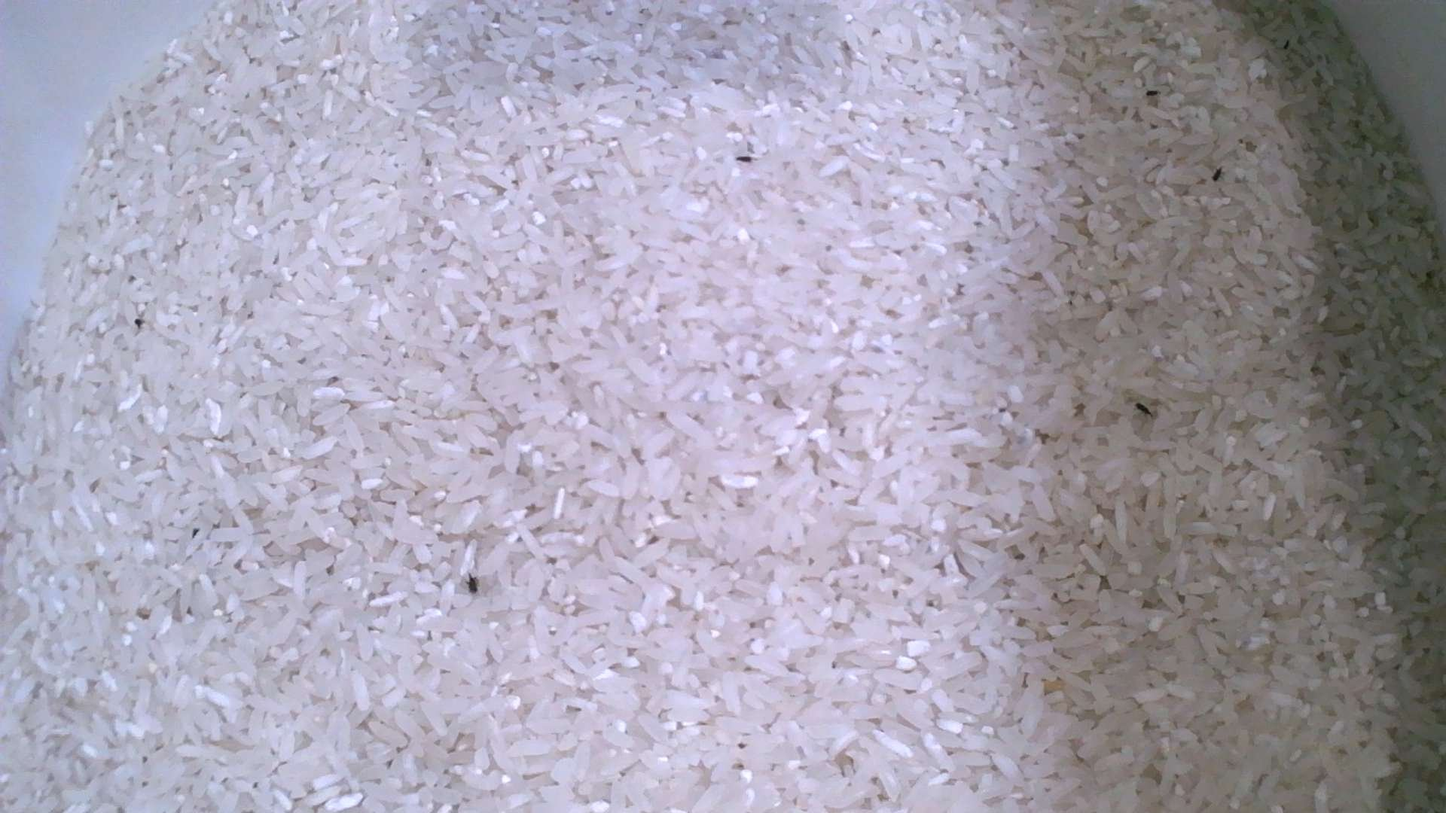Sitophilus-Oryzae: (1136, 403, 1153, 416), (467, 574, 478, 593), (1212, 168, 1222, 181)
